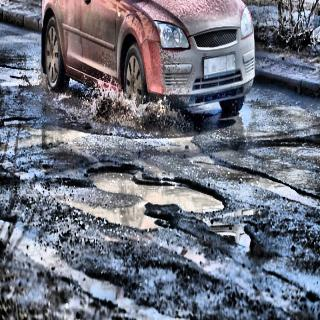pothole: (46, 130, 254, 269)
